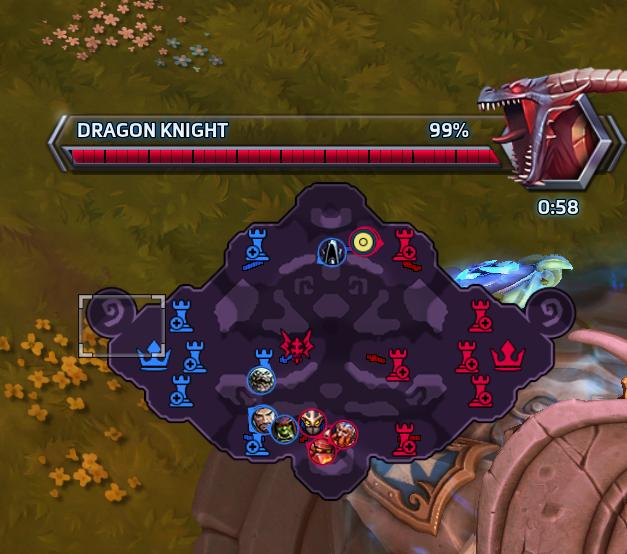blue nexus: (138, 339, 174, 372)
blue player: (269, 414, 299, 444), (317, 237, 347, 267), (248, 404, 277, 434), (246, 365, 275, 394)
blue tower: (167, 295, 196, 334), (168, 374, 199, 409), (245, 228, 273, 264), (181, 336, 209, 372)
dragon knight: (275, 325, 317, 367)
red nexus: (487, 336, 532, 373)
red player: (348, 227, 386, 258), (306, 433, 338, 465), (297, 408, 327, 439), (328, 419, 358, 449)
red tower: (464, 296, 498, 335), (391, 224, 421, 266), (390, 421, 419, 459), (384, 346, 413, 383), (466, 374, 496, 409), (455, 341, 481, 375)
